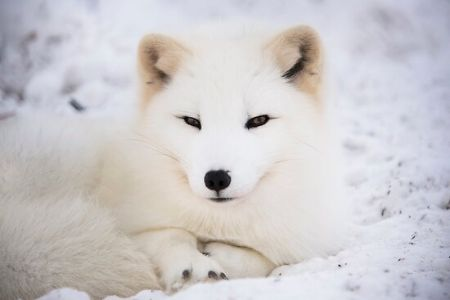fox: (12, 20, 360, 284)
